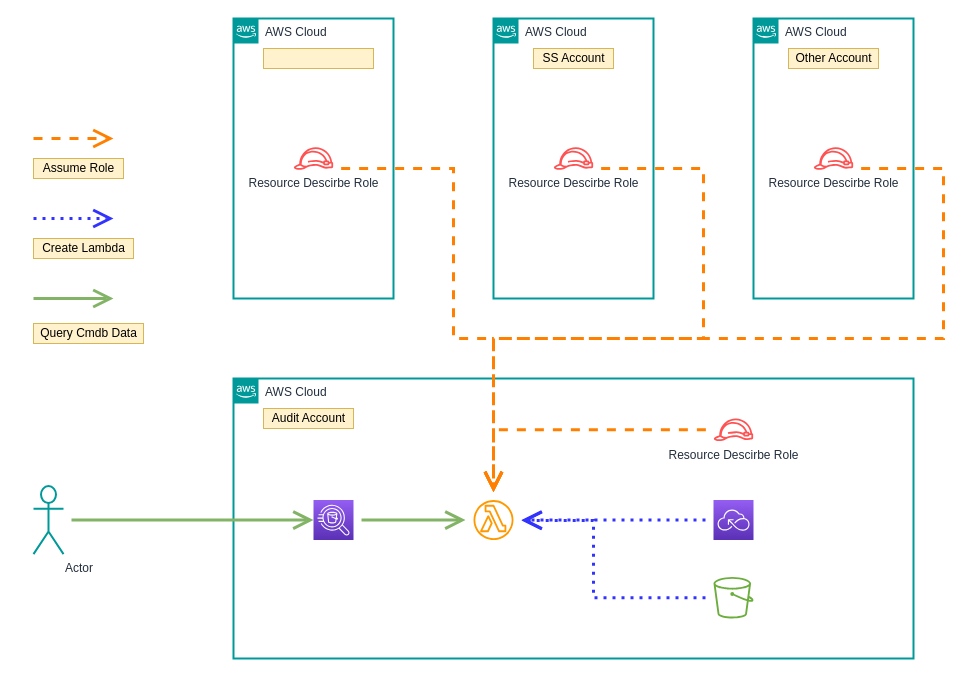
Some shapes in this 978 by 676 pixel diagram are drawn without their labels. The box of each missing label's shape, as (x1, y1, x2, y2) in pixels:
Aws Athena CMDB: (312, 499, 354, 540)
Lambda(Query Boto3）: (473, 500, 513, 540)
S3 (Lambda code): (713, 576, 753, 618)
ServerLess: (712, 499, 754, 540)
Workload Account: (262, 48, 374, 68)
